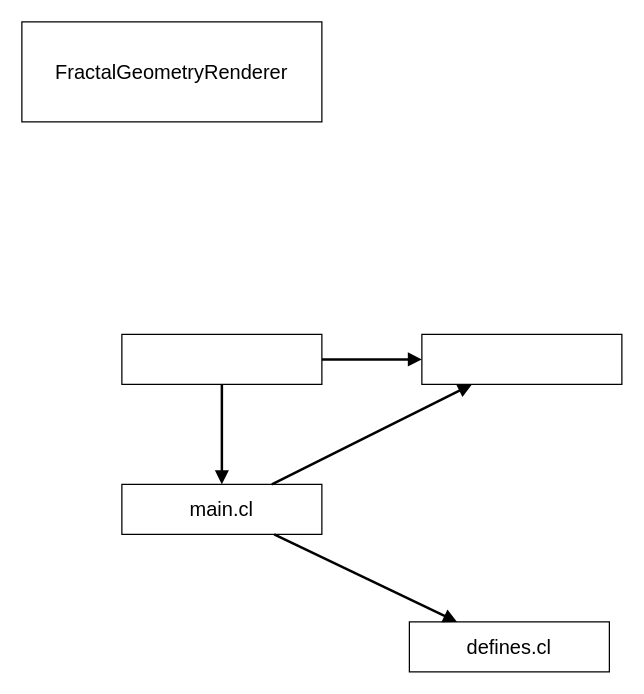
The diagram is 644 pixels wide and 694 high, and some of its shapes have lost their labels. Here are the shapes that lost their labels. From the top down, the centre of each, then its label:
the point at 221,358: scene.cl
the point at 521,358: types.cl
